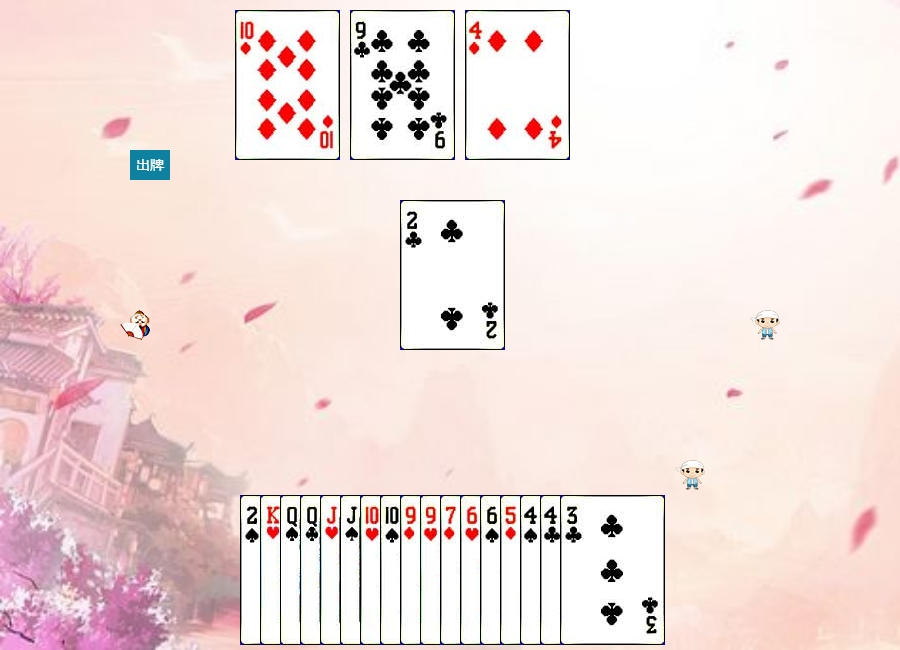10~1: (235, 10, 340, 160)
10~3: (360, 495, 465, 645)
10~4: (380, 495, 485, 645)
11~3: (320, 495, 425, 645)
11~4: (340, 495, 445, 645)
12~2: (300, 495, 405, 645)
12~4: (280, 495, 385, 645)
13~3: (260, 495, 365, 645)
15~2: (400, 200, 505, 350)
15~4: (240, 495, 345, 645)
3~2: (560, 495, 665, 645)
4~1: (465, 10, 570, 160)
4~2: (540, 495, 645, 645)
4~4: (520, 495, 625, 645)
5~1: (500, 495, 605, 645)
6~3: (460, 495, 565, 645)
6~4: (480, 495, 585, 645)
7~1: (440, 495, 545, 645)
9~1: (400, 495, 505, 645)
9~2: (350, 10, 455, 160)
9~3: (420, 495, 525, 645)
